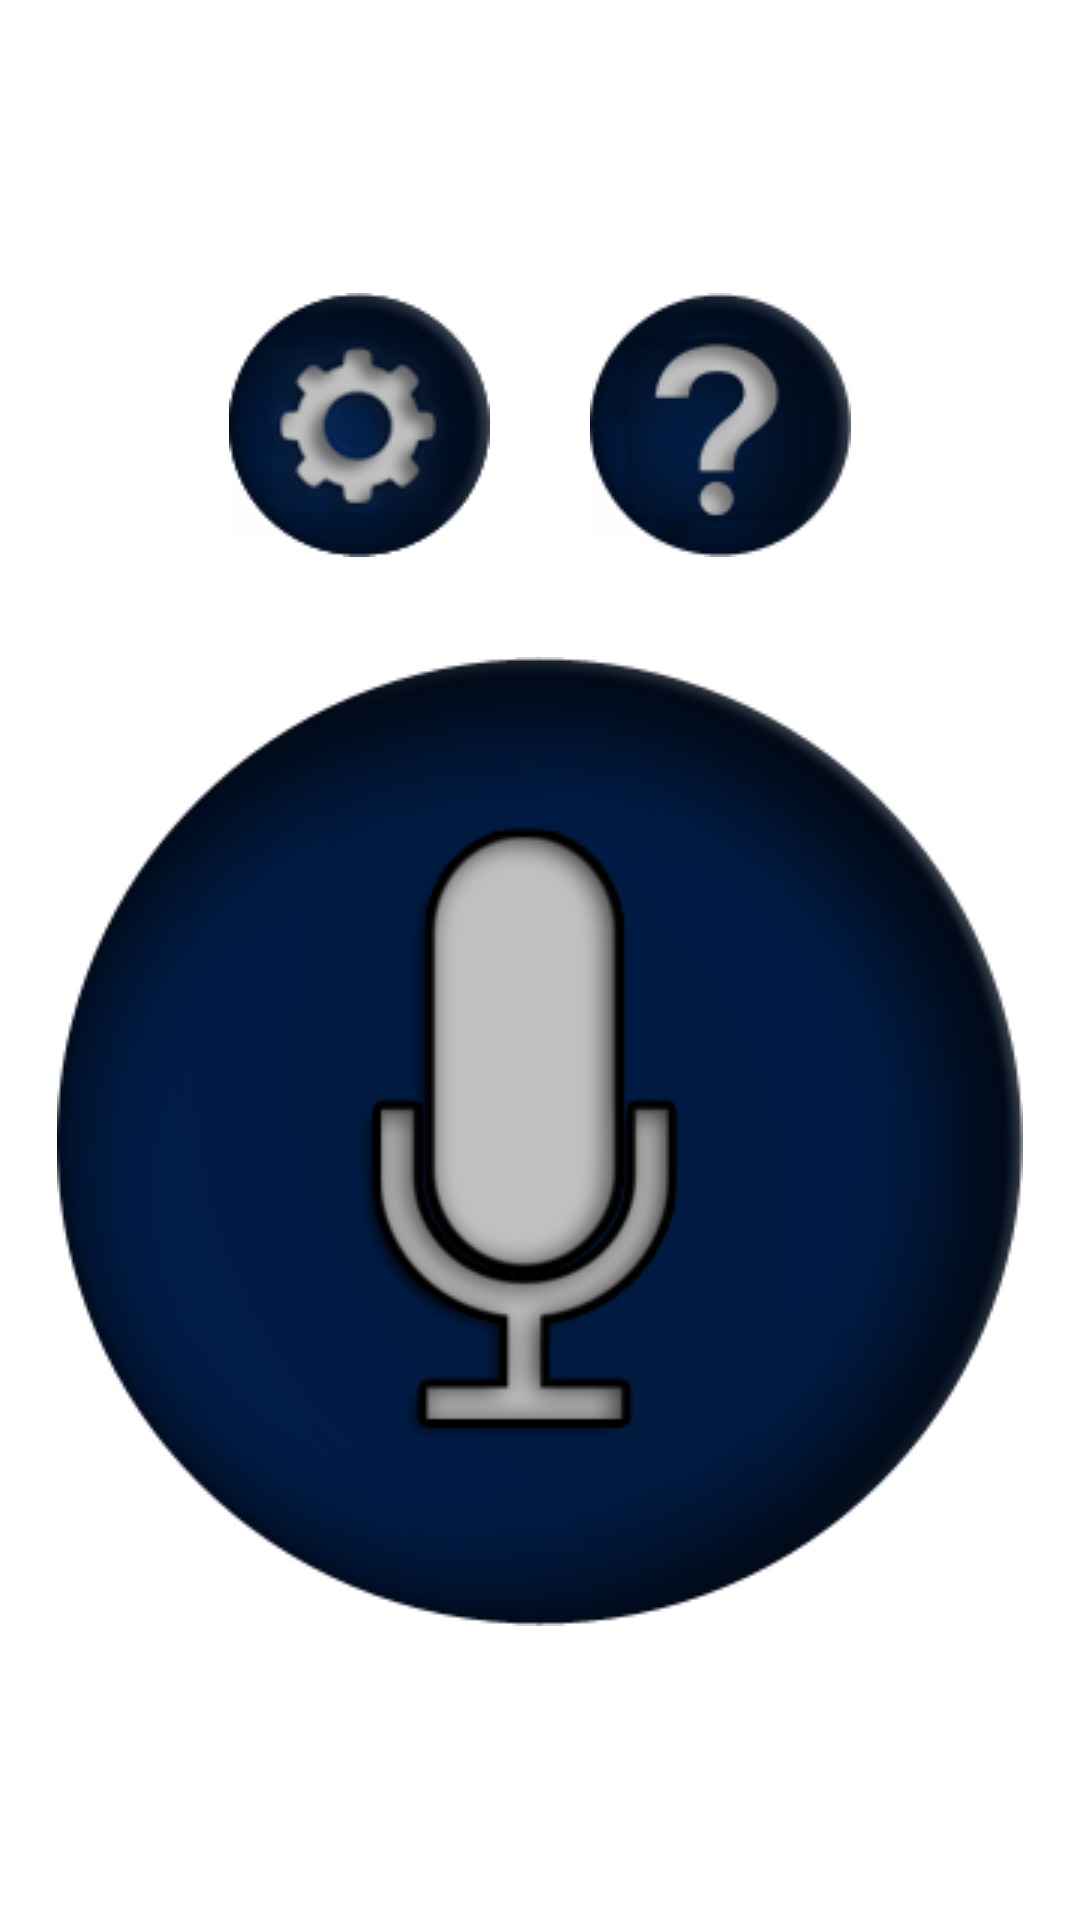

Locate icon controls on the screen. Image size 1080*1920, boxes as (x1, y1, x2, y2).
nhelp: (590, 293, 851, 557)
nsettings: (229, 293, 490, 557)
